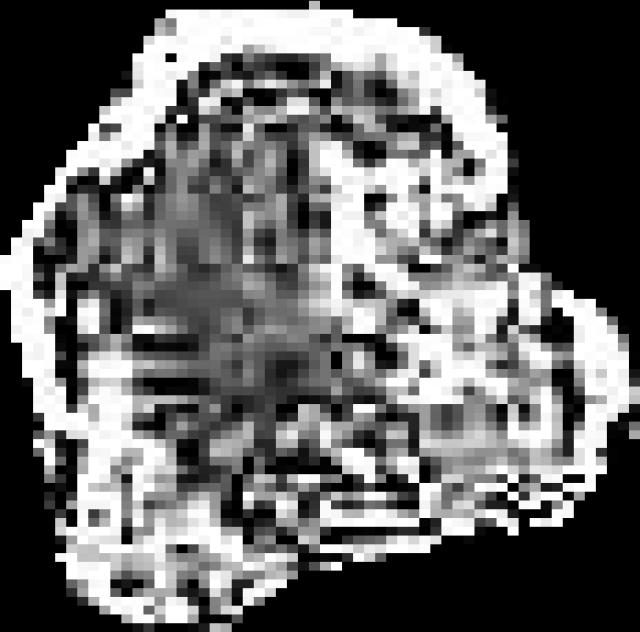tumor_moderate_chance: (0, 1, 640, 632)
